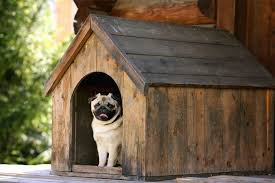dog: (78, 89, 132, 175)
